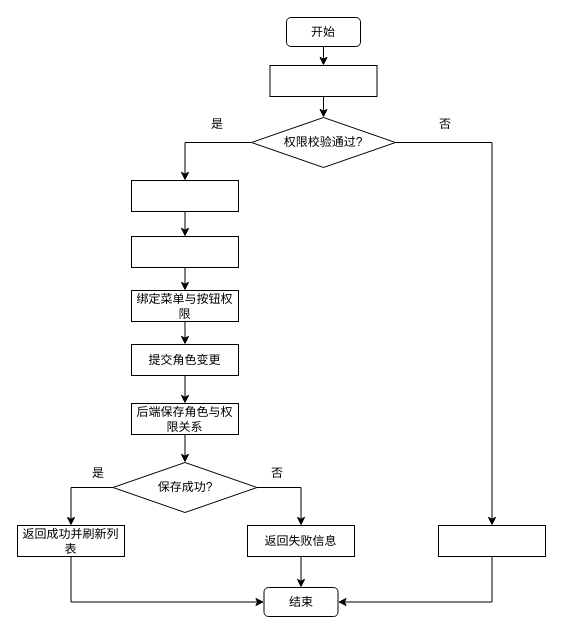
Image size: 563x634. Some labels were removed from this diagram. Each missing label, with the centre of its shape:
"新增/编辑/删除角色" belongs at pixel 184 252.
"查询角色列表" belongs at pixel 184 196.
"返回无权限" belongs at pixel 492 540.
"进入角色管理页" belongs at pixel 323 80.
